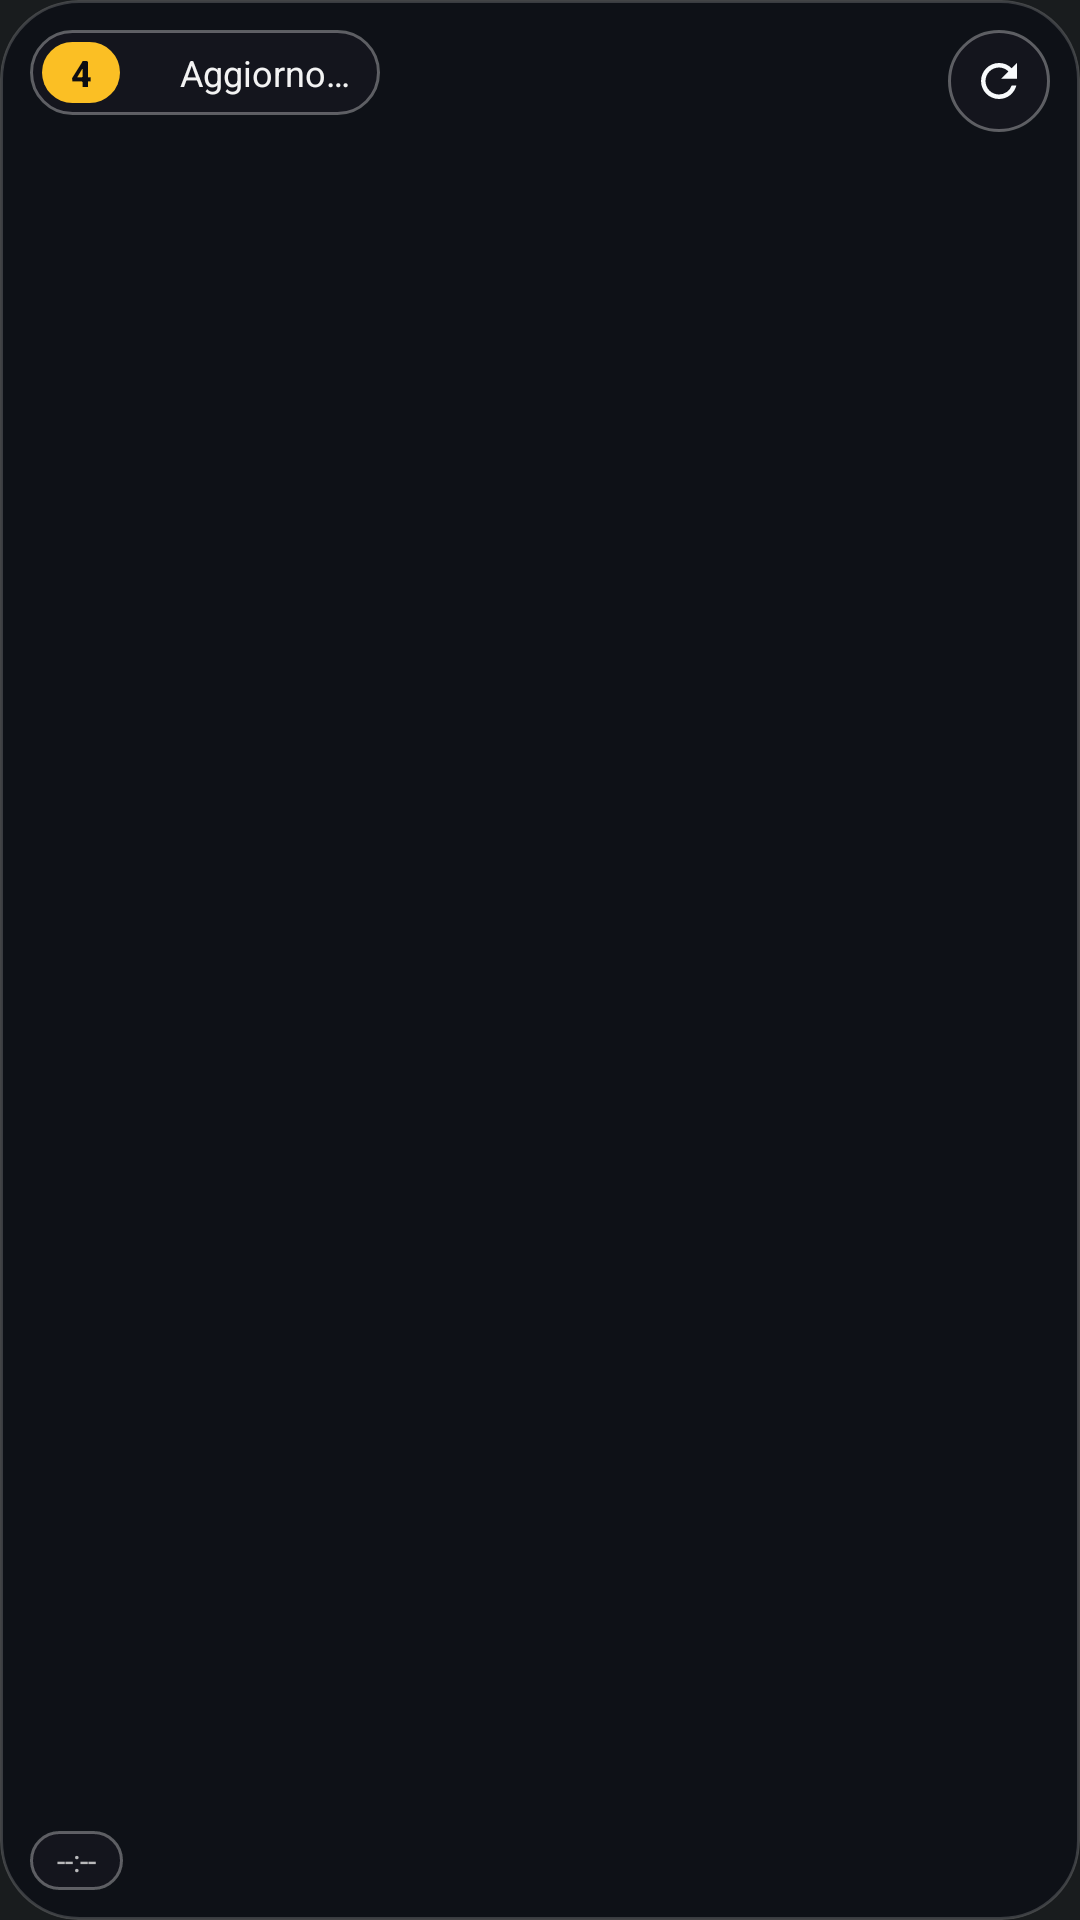

Named icons in this screenshot (1080px×1920px) and their centers, (x=x, y=y):
Aggiorna widget: (x=999, y=81)
